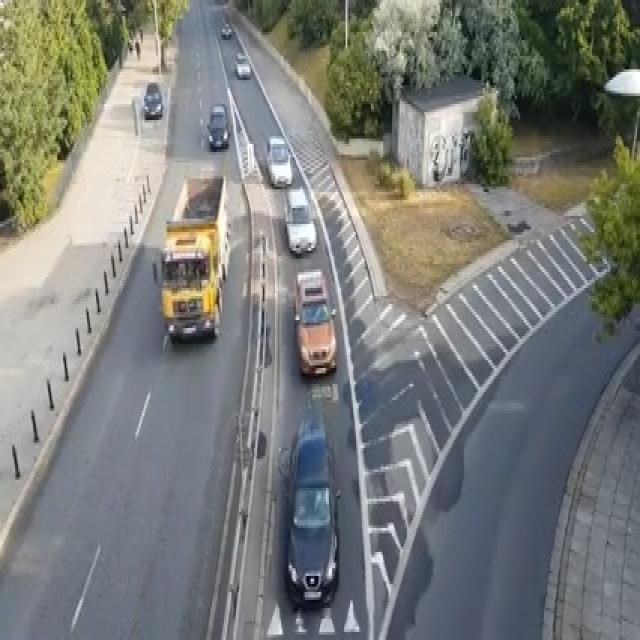bus: (170, 171, 231, 280)
car: (279, 411, 341, 608), (293, 267, 336, 376), (282, 184, 317, 253), (264, 133, 292, 187), (206, 102, 228, 150), (142, 80, 164, 117), (234, 51, 251, 77), (221, 22, 231, 38)
